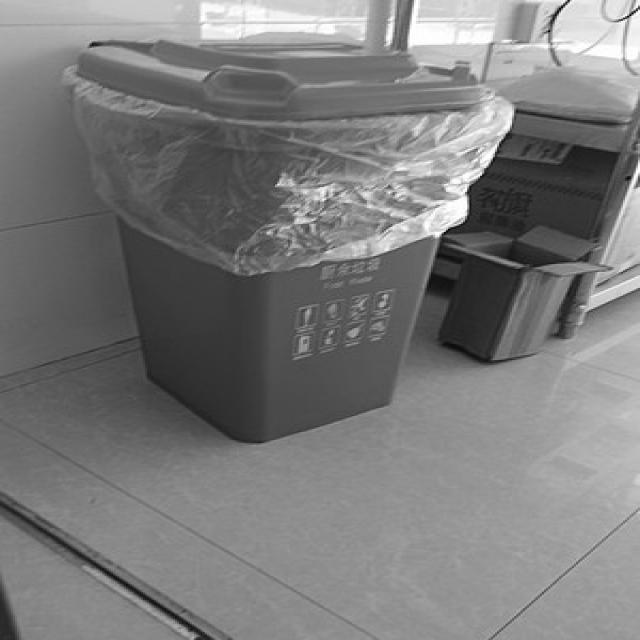ash bin: (75, 35, 495, 445)
